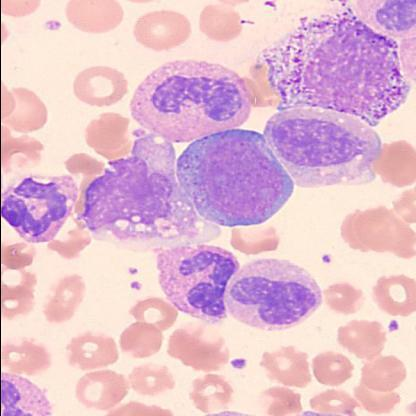Promyelocyte: (175, 128, 295, 231)
